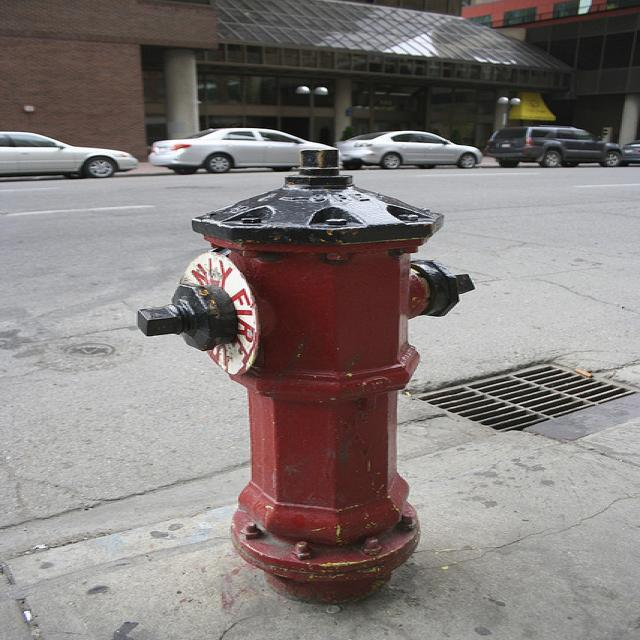fire_hydrant: (133, 146, 470, 603)
